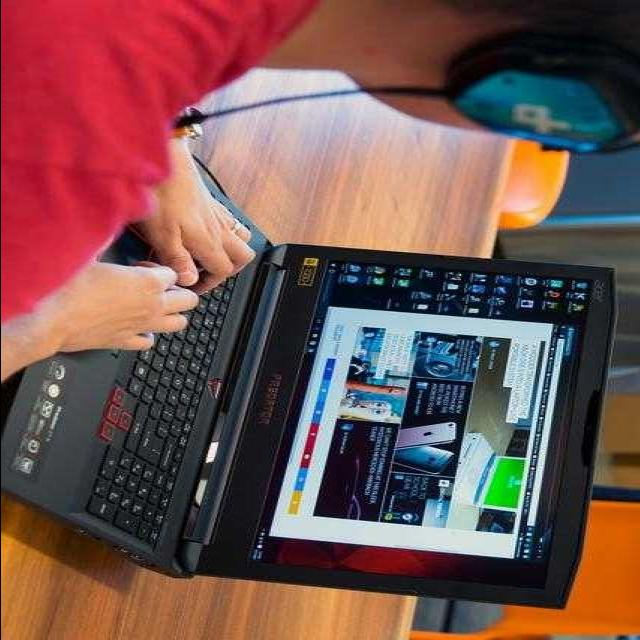laptop: (0, 198, 605, 608)
